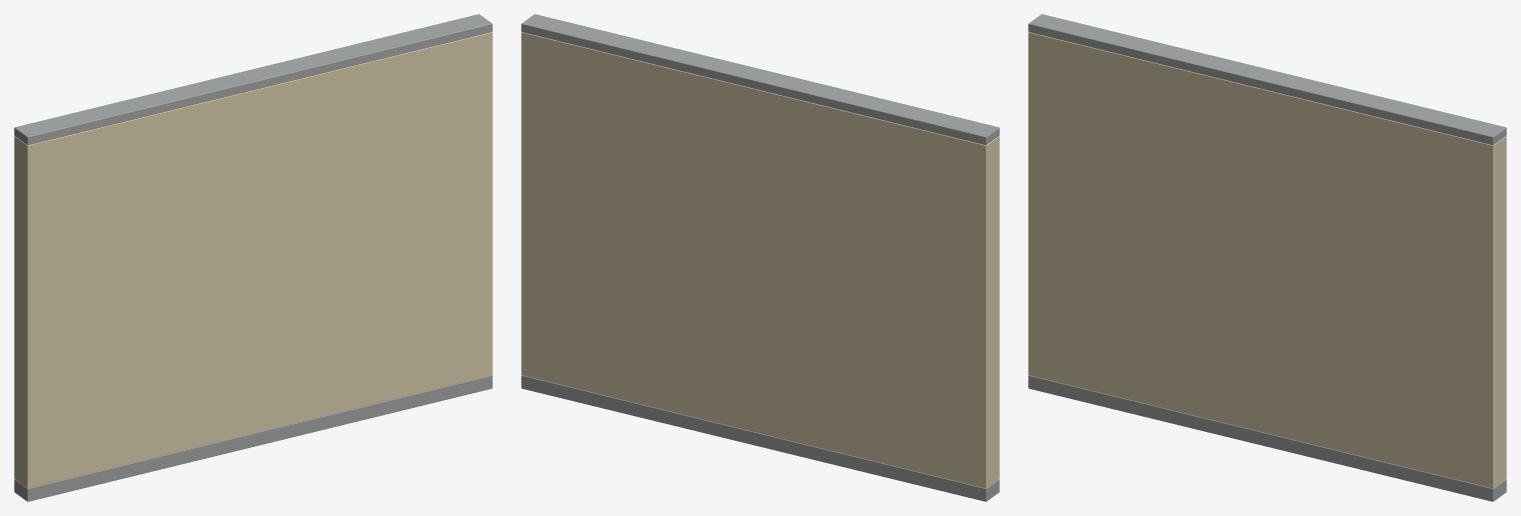
Rendered from b21_wall_solid_4m.glb.
The picture shows the model from 3 angles, left to right: view 1: azimuth 30°, elevation 25°; view 2: azimuth 150°, elevation 25°; view 3: azimuth 330°, elevation 25°; orthographic projection.
Visible parts, largest first — view 1: b21_wall_solid_4m; view 2: b21_wall_solid_4m; view 3: b21_wall_solid_4m.
Part boxes in pixels (x1,y1,x2,y2): b21_wall_solid_4m: (14, 14, 492, 501); b21_wall_solid_4m: (521, 14, 999, 501); b21_wall_solid_4m: (1028, 14, 1506, 501).
Bounding box in the file's own units: 4 × 3 × 0.2.
